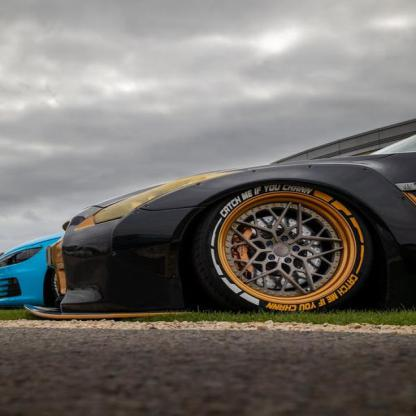Tire: (192, 181, 378, 315)
